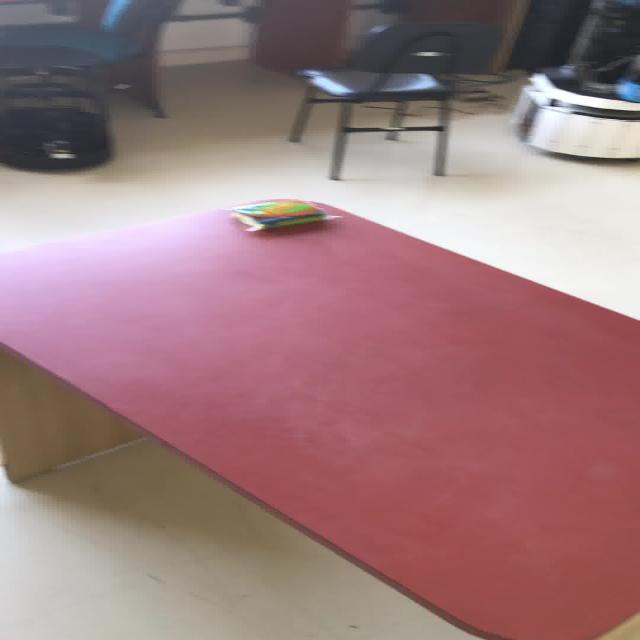sponge: (230, 199, 340, 231)
